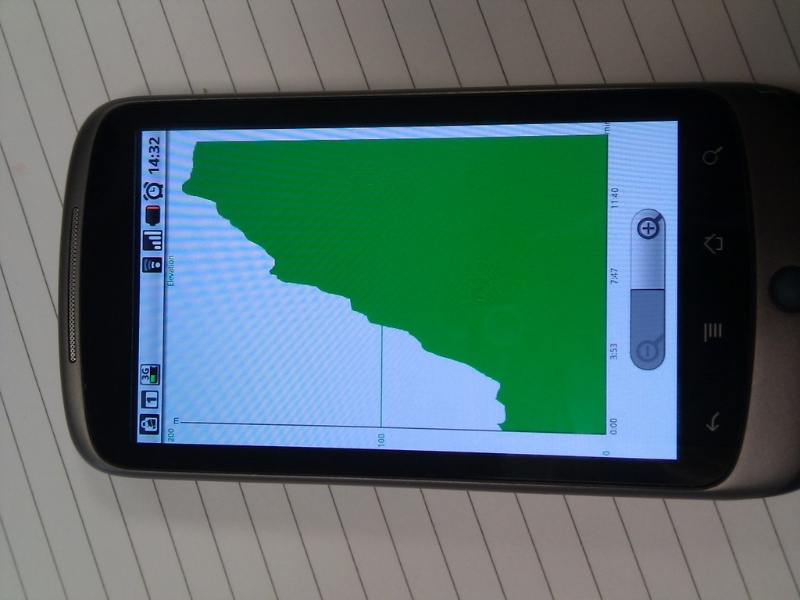cellphone: (60, 88, 800, 501)
